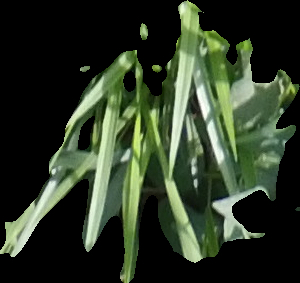grass: (1, 1, 298, 282)
